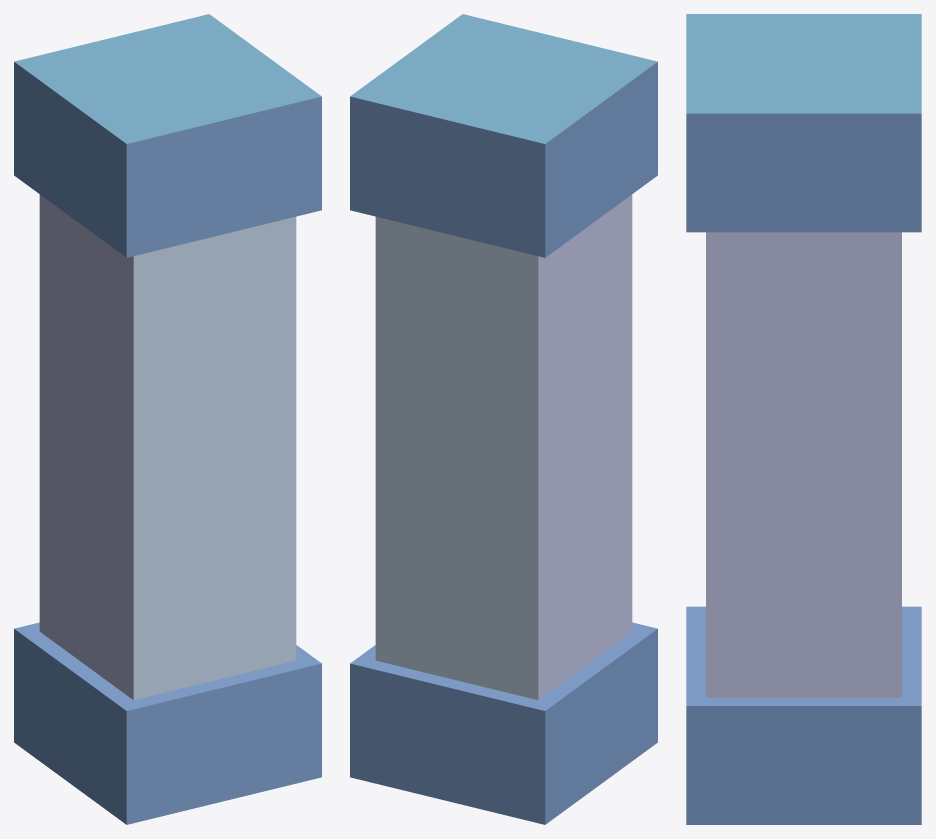
File: pillar_S.fbx
3 views of the same model, side by side, from view 1: azimuth 30°, elevation 25°; view 2: azimuth 150°, elevation 25°; view 3: azimuth 270°, elevation 25° (orthographic). The views are drawn at different scales.
Visible parts, largest first — view 1: pillar_s; view 2: pillar_s; view 3: pillar_s.
Boxes of the visible parts, x1,y1,x2,y2 form: pillar_s: (14, 14, 321, 824); pillar_s: (350, 14, 657, 824); pillar_s: (686, 14, 921, 824).
Bounding box in the file's own units: 60 × 200 × 60.
